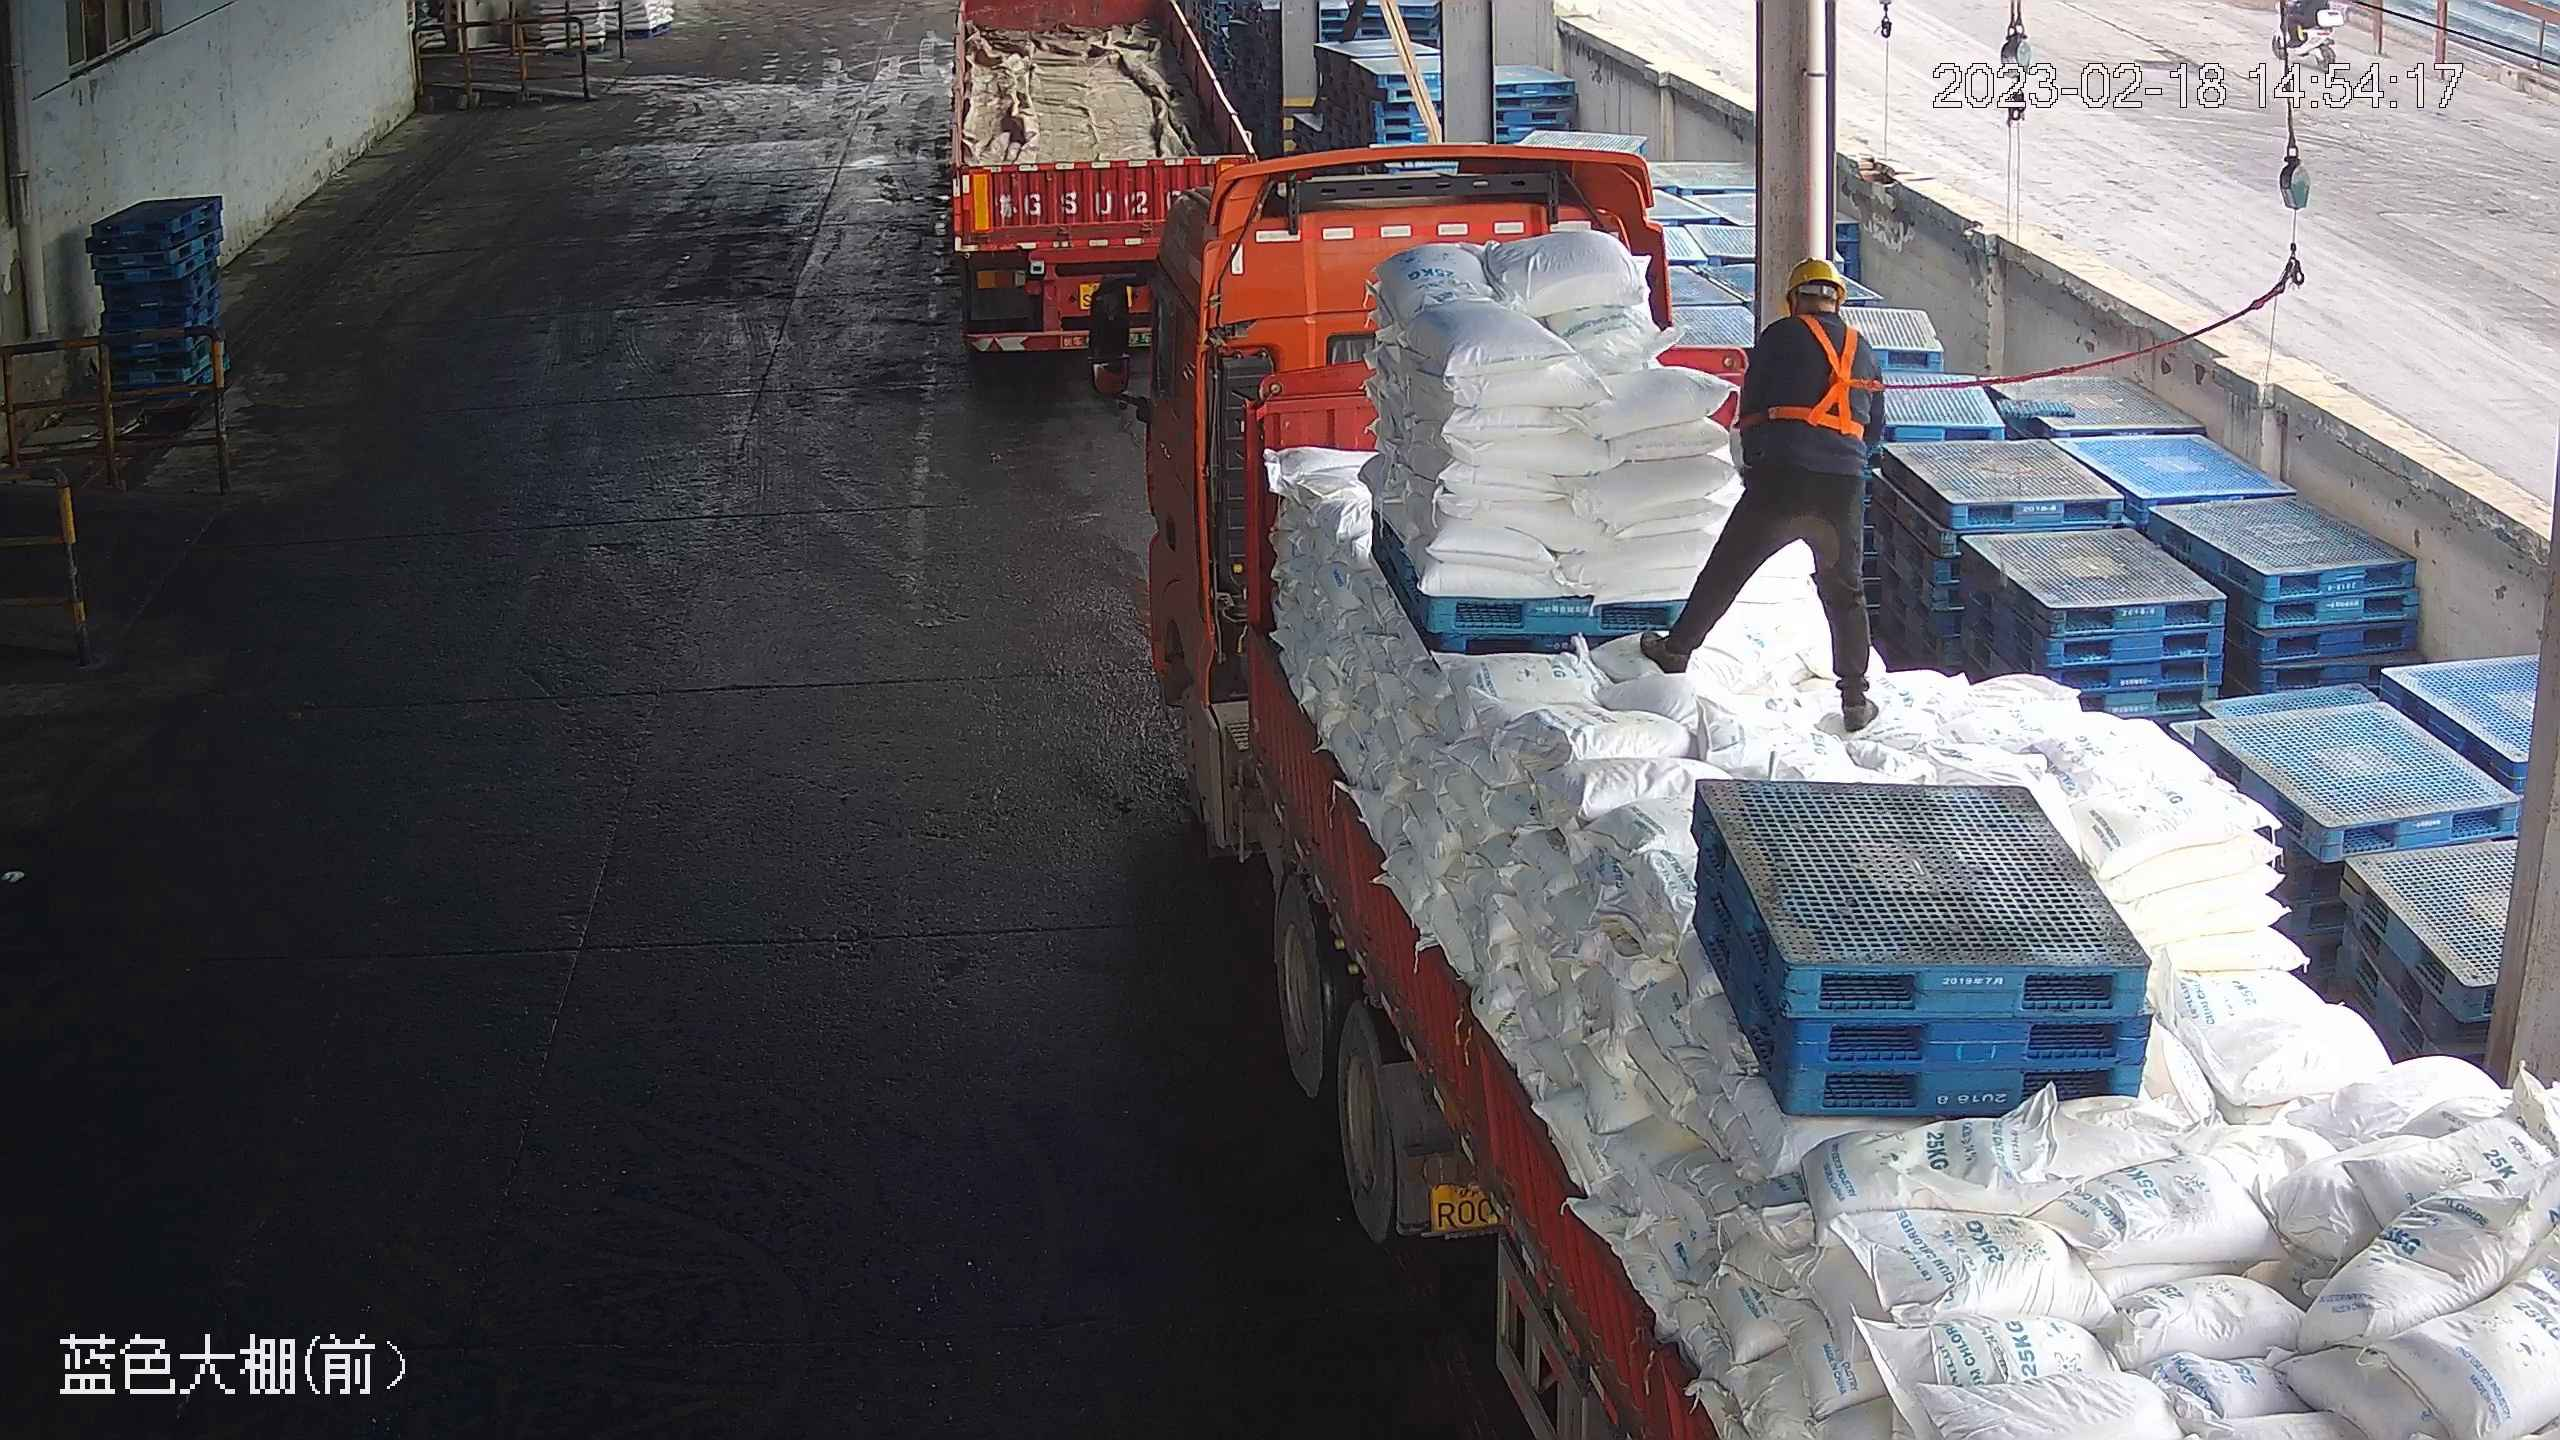belt: (1766, 310, 1879, 434)
head: (1744, 255, 1886, 371)
helmet: (1780, 254, 1845, 310)
people: (1639, 249, 1893, 724)
truck: (1072, 159, 2555, 1440), (923, 1, 1253, 375)
